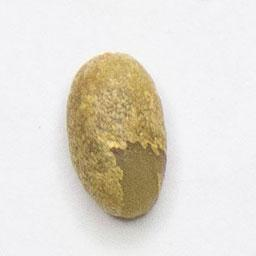longberry: (61, 46, 172, 224)
